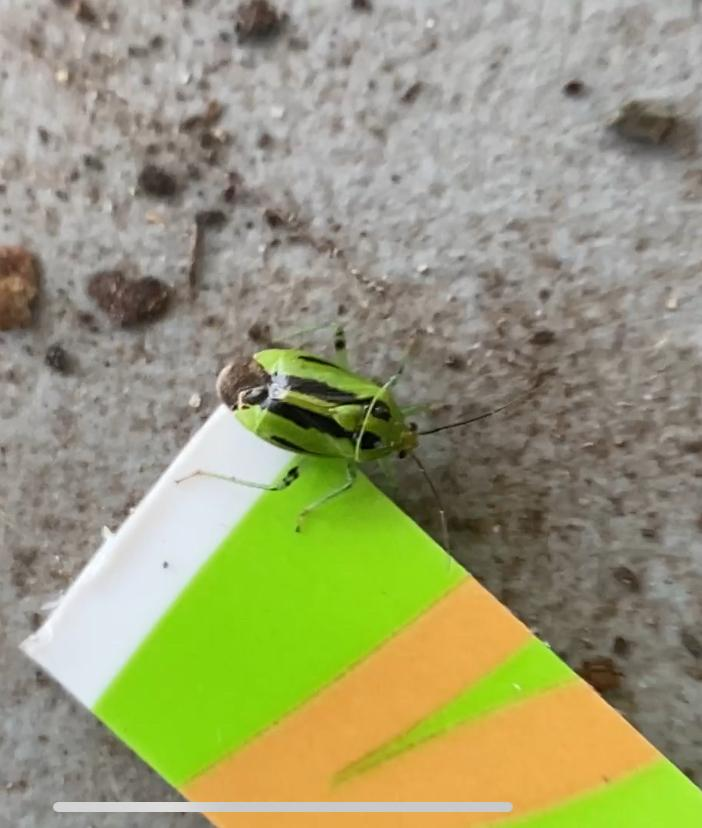plant_bugs: (119, 298, 553, 596)
